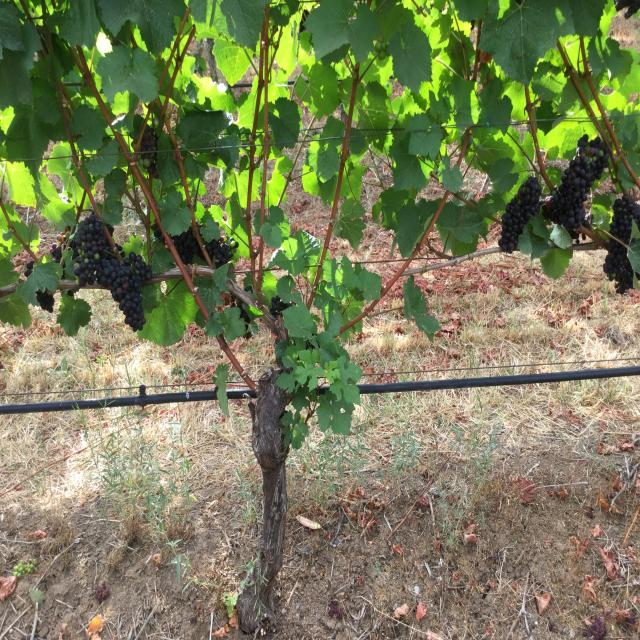grapes: (542, 135, 609, 238), (96, 252, 152, 332), (499, 177, 541, 253), (74, 213, 110, 287), (604, 238, 634, 293), (610, 195, 640, 245), (172, 227, 204, 265), (172, 227, 200, 265), (140, 125, 159, 178), (205, 238, 234, 268), (36, 290, 55, 313), (155, 228, 161, 238)
